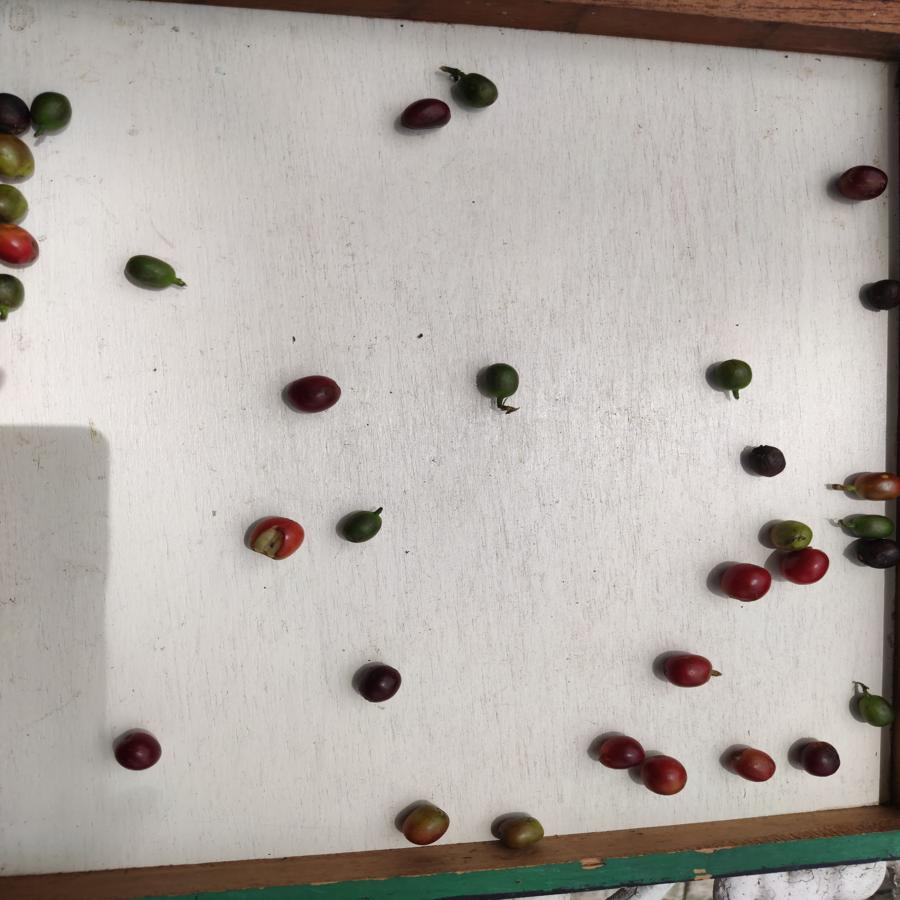Inmaduro: (121, 252, 182, 293), (29, 88, 73, 137), (476, 362, 524, 403), (453, 71, 502, 106), (855, 690, 894, 733), (713, 356, 757, 393), (338, 510, 385, 542), (845, 510, 894, 537), (1, 272, 26, 311)
Maduro: (246, 513, 307, 562), (720, 559, 772, 602), (659, 652, 711, 693), (644, 752, 689, 799), (780, 546, 828, 586), (1, 223, 40, 271), (733, 746, 781, 785)
Pinton: (398, 802, 450, 848), (497, 810, 546, 850), (851, 467, 900, 504), (1, 136, 36, 183), (768, 515, 812, 546), (1, 181, 30, 226)
Sobremaduro: (284, 373, 348, 415), (111, 728, 163, 776), (834, 161, 890, 203), (358, 658, 404, 704), (397, 98, 454, 133), (796, 742, 843, 781), (856, 536, 900, 577), (746, 442, 788, 478), (865, 275, 900, 316), (1, 92, 27, 134)
